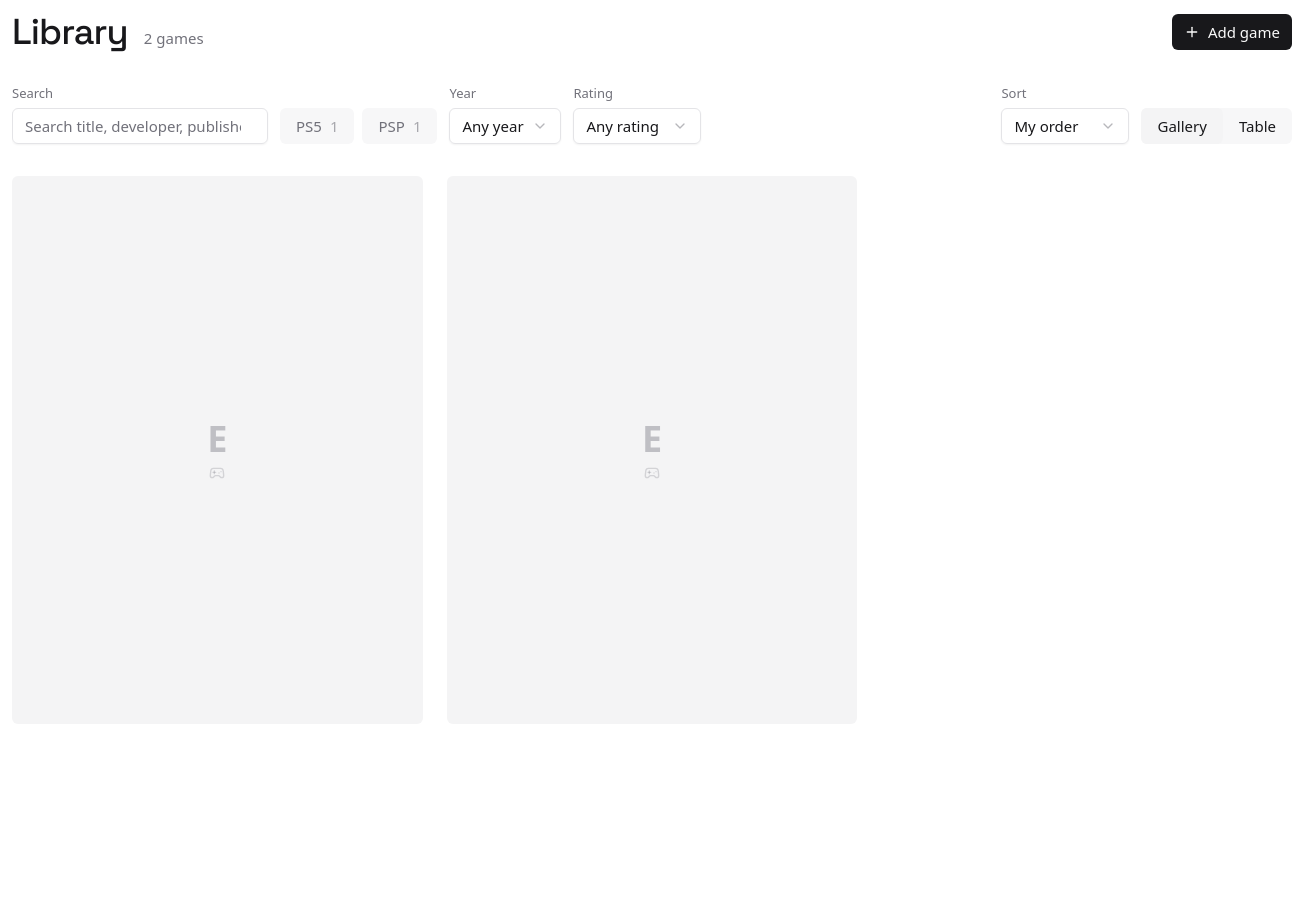
LibraryView › offers Clear only while something is actually filtered
Check: the button "clear" is not shown
Step 1. Click the button "PS5 1" → (317, 126), box [280,108,354,144]
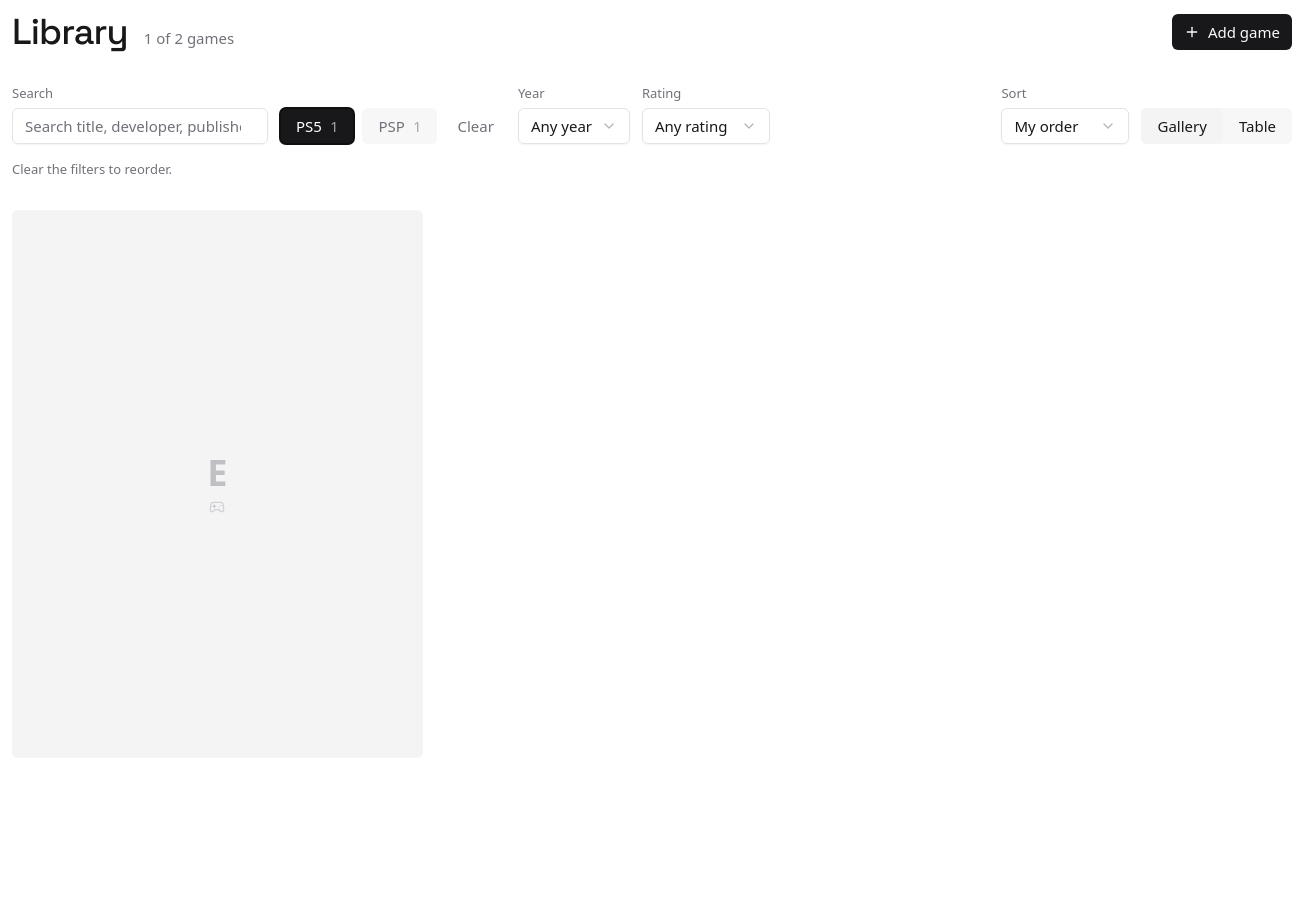
Step 2. Click the button "Clear" → (476, 126), box [446,110,506,142]
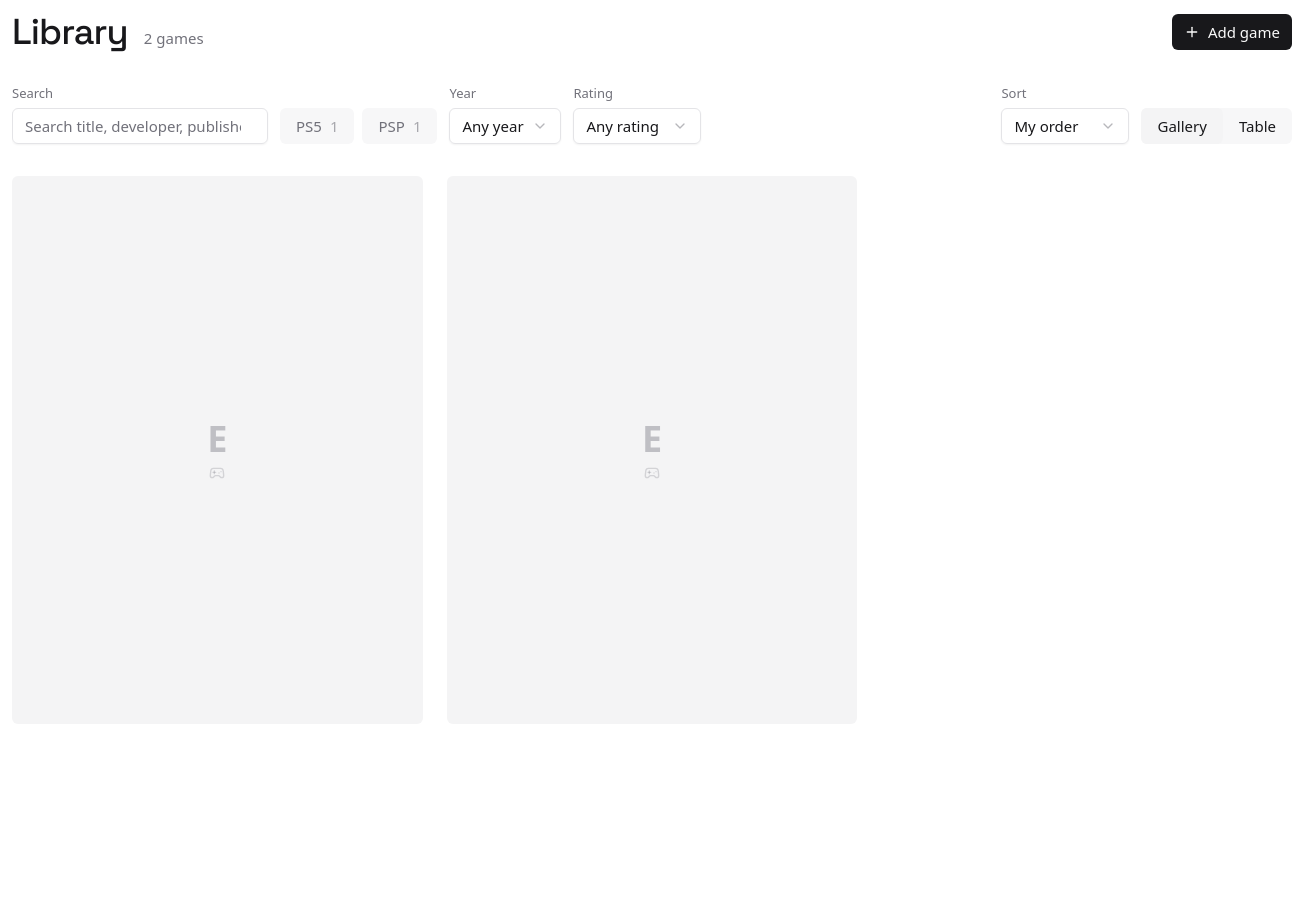
Check: the text "2 games" is shown, box [144,27,204,50]
Check: the button "Clear" is gone
